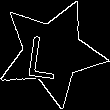L_N: (33, 25, 71, 80)
